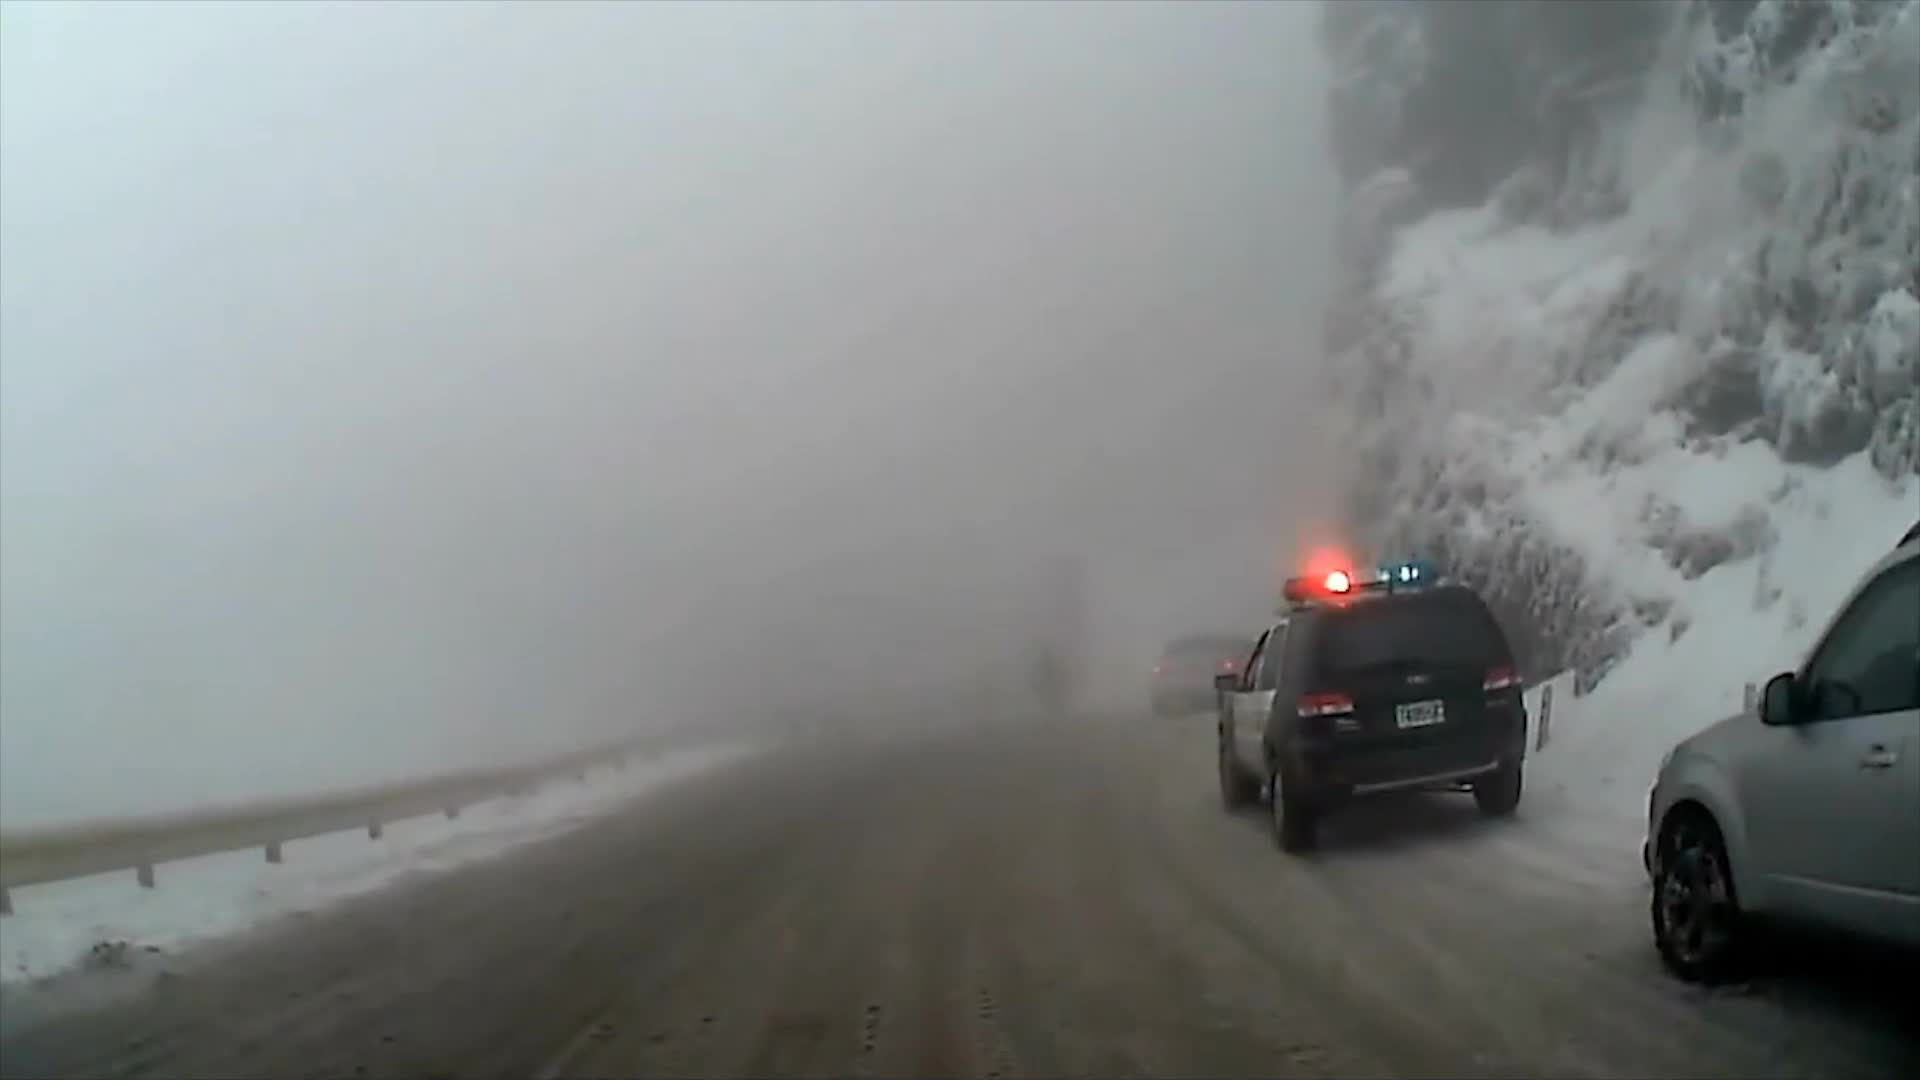vehicle: (1636, 524, 1919, 1015), (1211, 560, 1528, 856)
